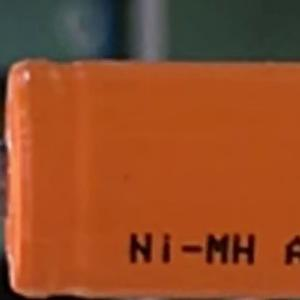keyword: (119, 224, 265, 273)
